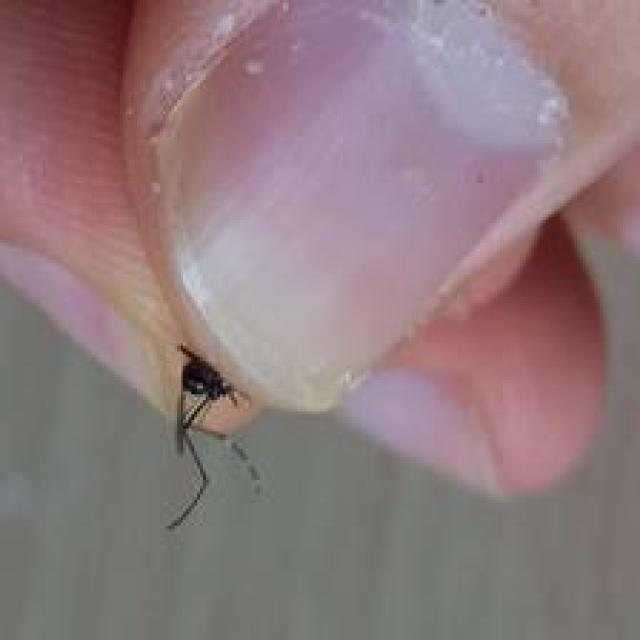Aedes albopictus: (164, 341, 264, 530)
